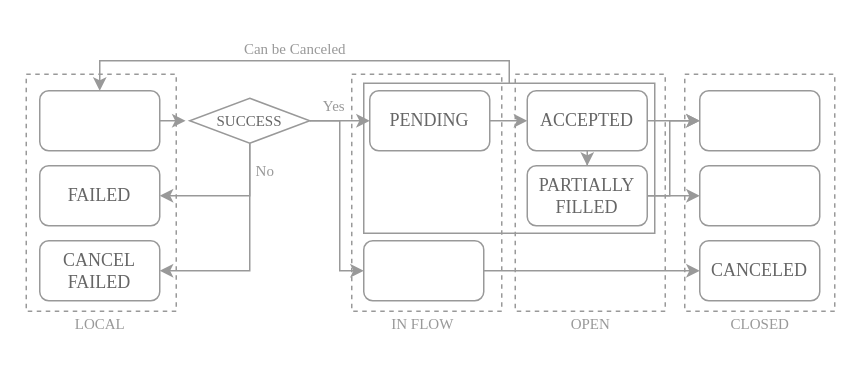
The diagram is 861 pixels wide and 371 high, and some of its shapes have lost their labels. Each missing label, with the box of its shape:
CANCELING: (362, 239, 484, 301)
EXPIRED: (698, 164, 820, 226)
FILLED: (698, 89, 820, 151)
INITIALIZED: (38, 89, 160, 151)
